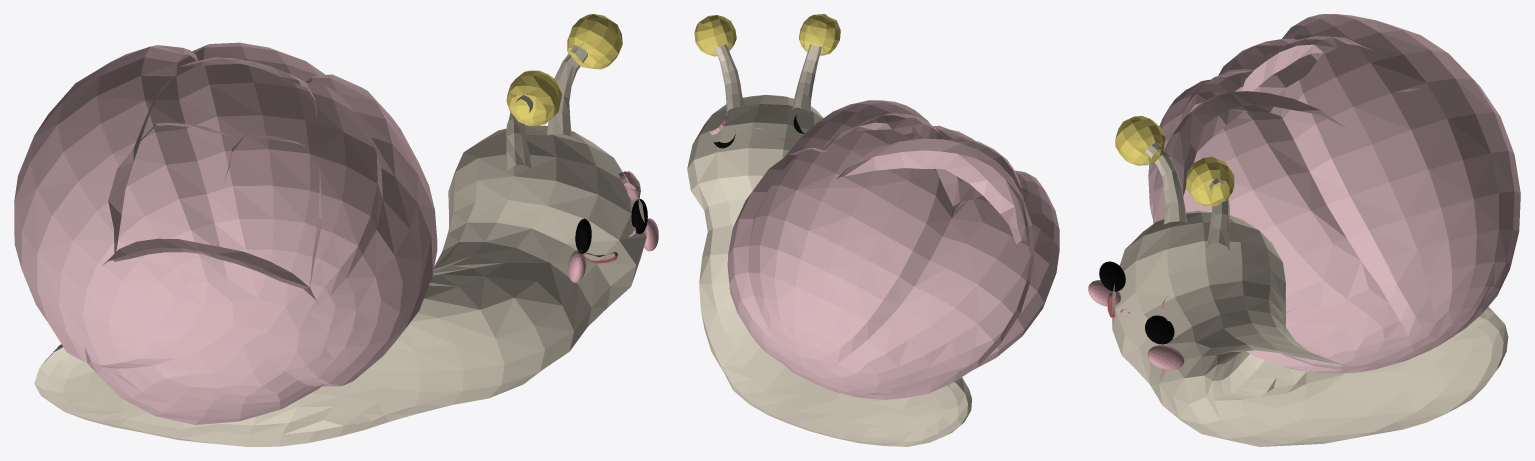
Rendered from katatsumuri.glb.
3 renders of one model, left to right at view 1: azimuth 30°, elevation 25°; view 2: azimuth 150°, elevation 25°; view 3: azimuth 270°, elevation 25°, orthographic. The views are drawn at different scales.
Parts seen in each view (by area): view 1: geometry_0; view 2: geometry_0; view 3: geometry_0.
Part boxes in pixels (<box>): geometry_0: <box>14,14,658,446</box>; geometry_0: <box>687,14,1059,446</box>; geometry_0: <box>1088,14,1520,446</box>.
Bounding box in the file's own units: 0.168 × 0.1162 × 0.135.
